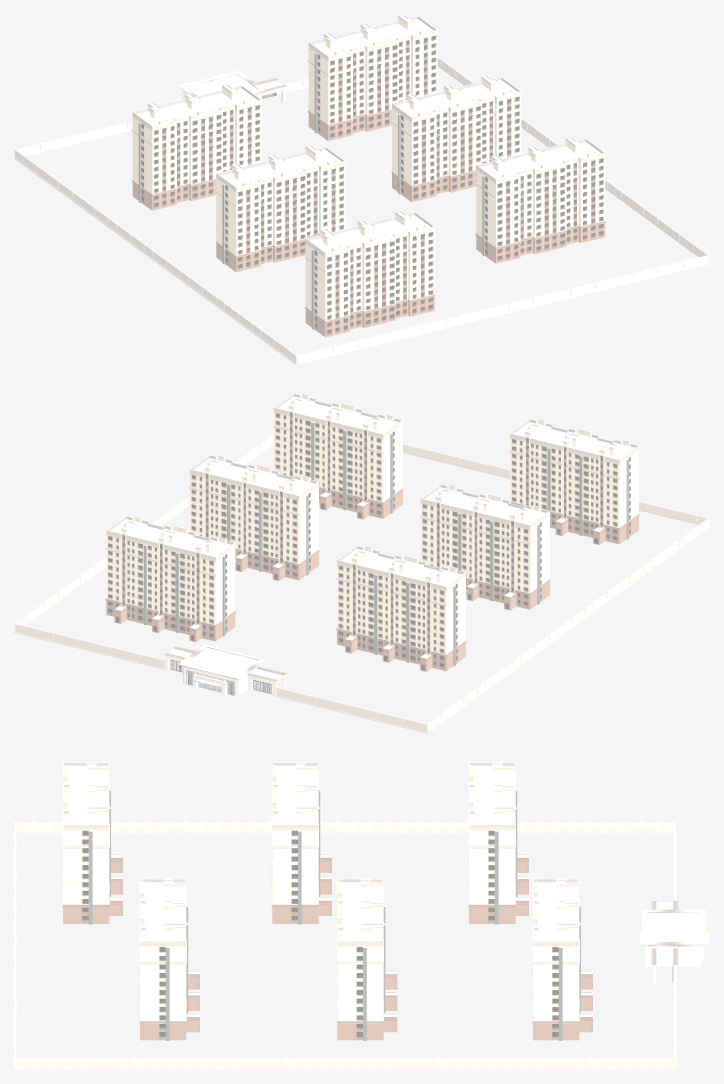
Rendered from ResidentialCommunity.glb.
The picture shows the model from 3 angles, top to bottom: view 1: azimuth 30°, elevation 25°; view 2: azimuth 150°, elevation 25°; view 3: azimuth 270°, elevation 25°; orthographic projection. The views are drawn at different scales.
Parts seen in each view (by area): view 1: ResidentialCommunity; view 2: ResidentialCommunity; view 3: ResidentialCommunity.
Boxes of the visible parts, x1=… form: ResidentialCommunity: x1=14, y1=14, x2=709, y2=364; ResidentialCommunity: x1=14, y1=393, x2=709, y2=733; ResidentialCommunity: x1=14, y1=762, x2=709, y2=1069.
Bounding box in the file's own units: 145 × 30.01 × 180.
6 materials, 5 textured.
